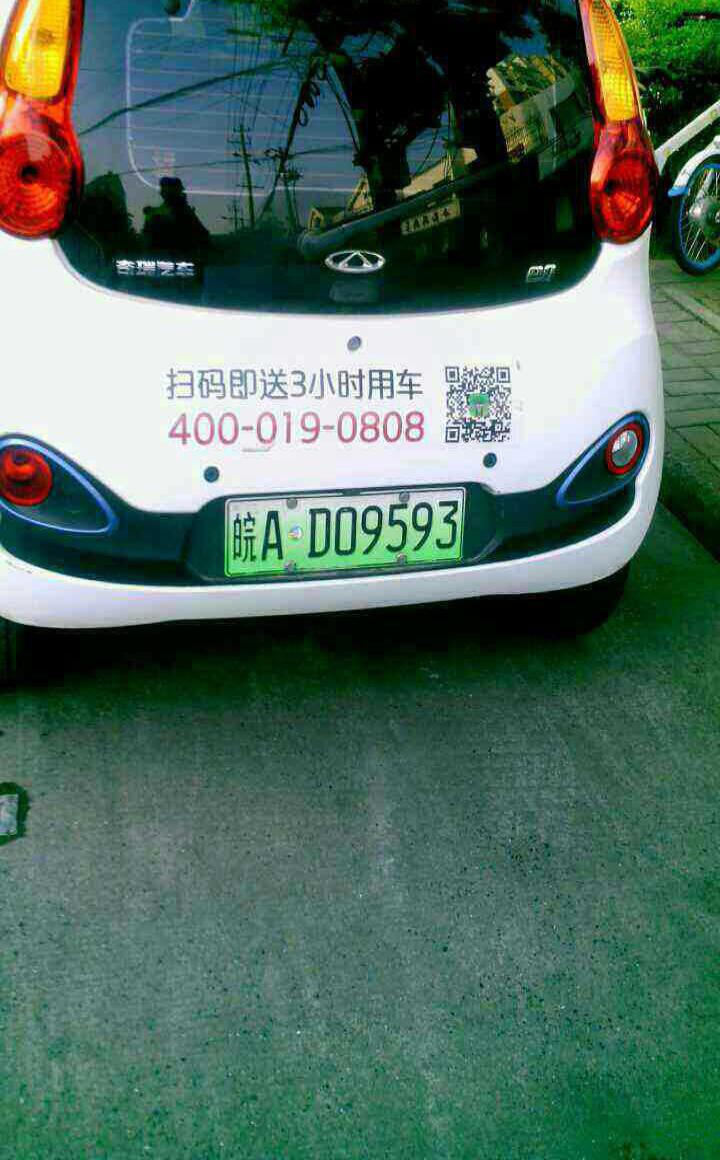car_id: (221, 486, 465, 575)
